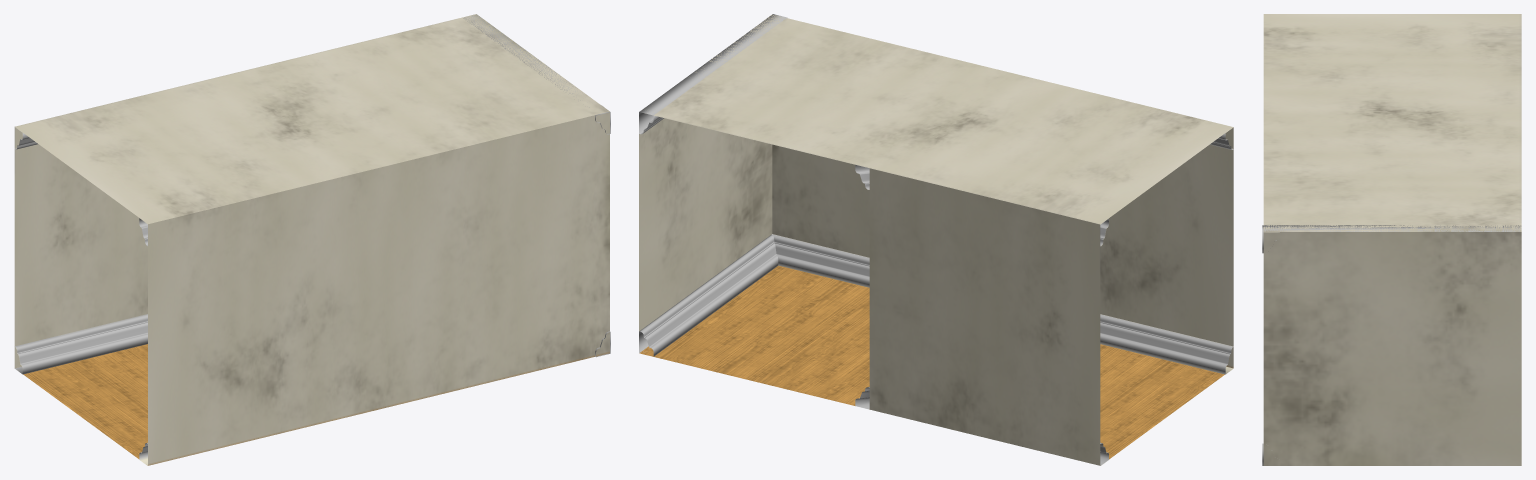
Rendered from Hallway_RightSplit.fbx.
3 renders of one model, left to right at view 1: azimuth 30°, elevation 25°; view 2: azimuth 150°, elevation 25°; view 3: azimuth 270°, elevation 25°, orthographic. The views are drawn at different scales.
Parts seen in each view (by area): view 1: Hallway_RightSplit; view 2: Hallway_RightSplit; view 3: Hallway_RightSplit.
Boxes of the visible parts, left/top/right/bottom form: Hallway_RightSplit: left=14, top=14, right=610, bottom=465; Hallway_RightSplit: left=639, top=14, right=1233, bottom=465; Hallway_RightSplit: left=1262, top=14, right=1521, bottom=465.
Size of the model in its own units: 1498 by 748 by 752.
1 material, 1 textured.
